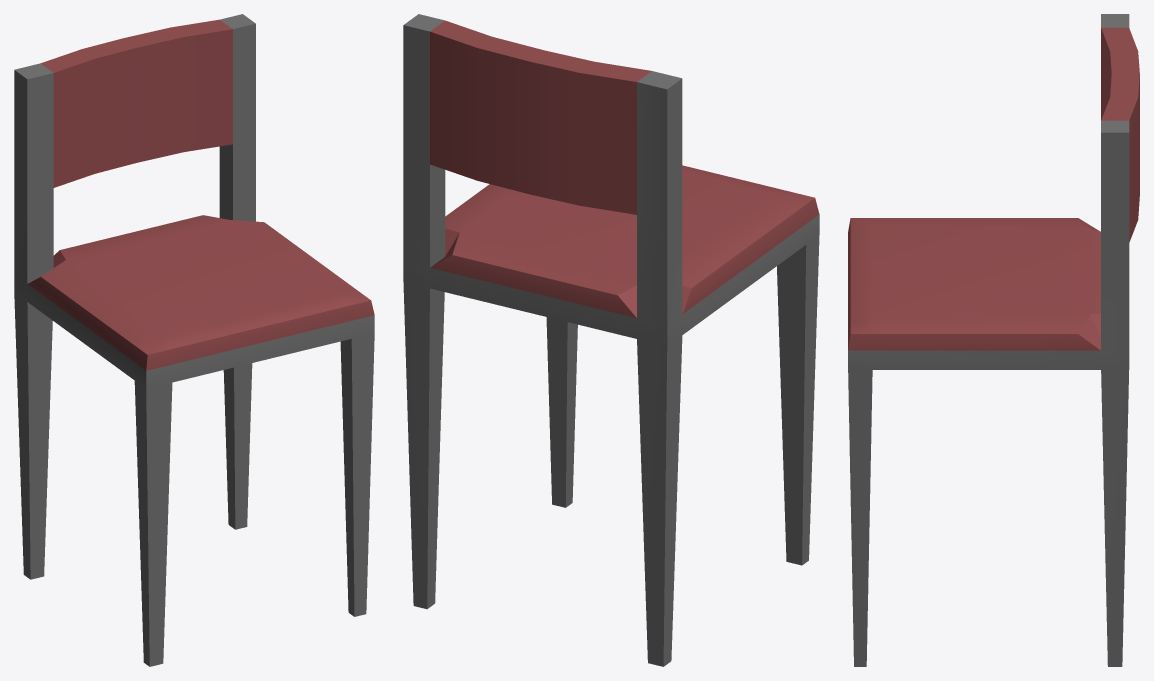
Rendered from Chaise02.fbx.
The picture shows the model from 3 angles, left to right: view 1: azimuth 30°, elevation 25°; view 2: azimuth 150°, elevation 25°; view 3: azimuth 270°, elevation 25°; orthographic projection. The views are drawn at different scales.
Visible parts, largest first — view 1: pCube1; view 2: pCube1; view 3: pCube1.
Boxes of the visible parts, bbox=[...] form: pCube1: bbox=[14, 14, 374, 666]; pCube1: bbox=[403, 14, 819, 666]; pCube1: bbox=[848, 14, 1139, 666].
Size of the model in its own units: 4.42 by 9.32 by 4.59.
